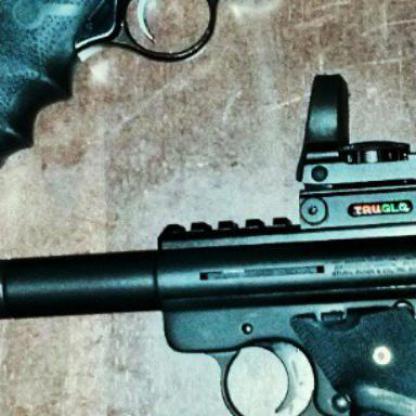gun: (0, 77, 415, 415), (0, 0, 415, 203)
